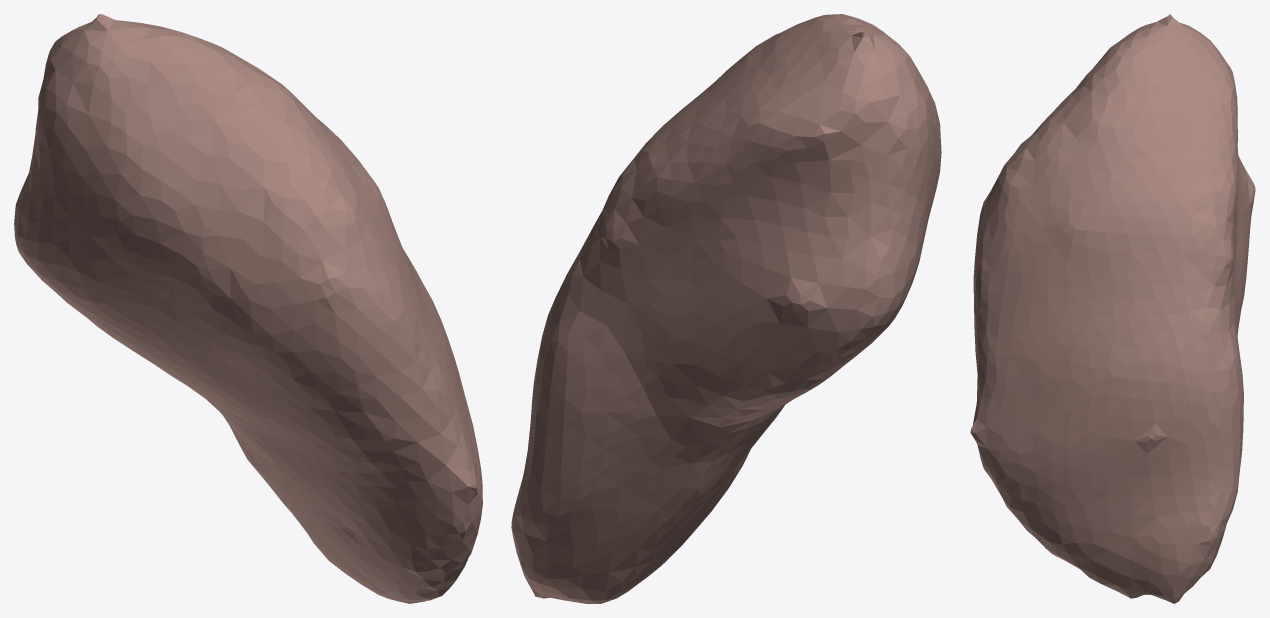
The model's file is Right_Pallidum.glb.
3 views of the same model, side by side, from view 1: azimuth 30°, elevation 25°; view 2: azimuth 150°, elevation 25°; view 3: azimuth 270°, elevation 25° (orthographic). The views are drawn at different scales.
Parts seen in each view (by area): view 1: world; view 2: world; view 3: world.
Part boxes in pixels (bbox=[...]): world: bbox=[14, 14, 482, 603]; world: bbox=[511, 14, 941, 603]; world: bbox=[970, 14, 1255, 603].
Bounding box in the file's own units: 15.79 × 24.94 × 13.53.
